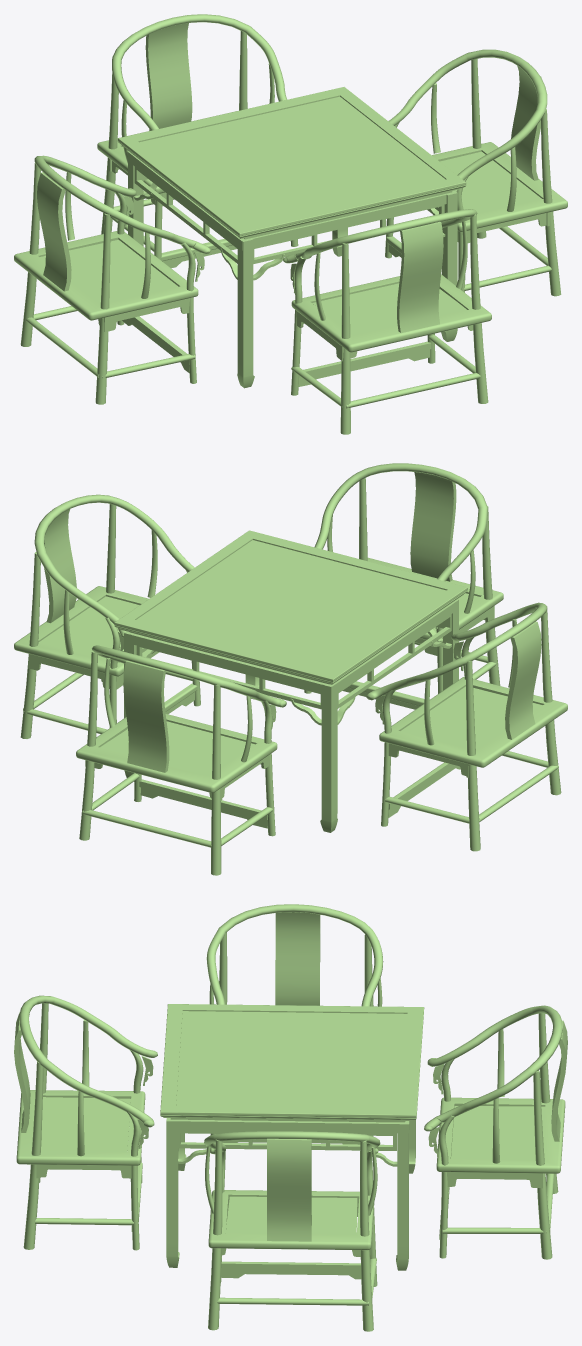
3 renders of one model, top to bottom at view 1: azimuth 30°, elevation 25°; view 2: azimuth 150°, elevation 25°; view 3: azimuth 270°, elevation 25°, orthographic.
Visible parts, largest first — view 1: FAC03; view 2: FAC03; view 3: FAC03.
Boxes of the visible parts, x1,y1,x2,y2 form: FAC03: [14, 14, 567, 434]; FAC03: [14, 463, 567, 875]; FAC03: [14, 904, 567, 1331].
Bounding box in the file's own units: 2201 × 873 × 2188.
